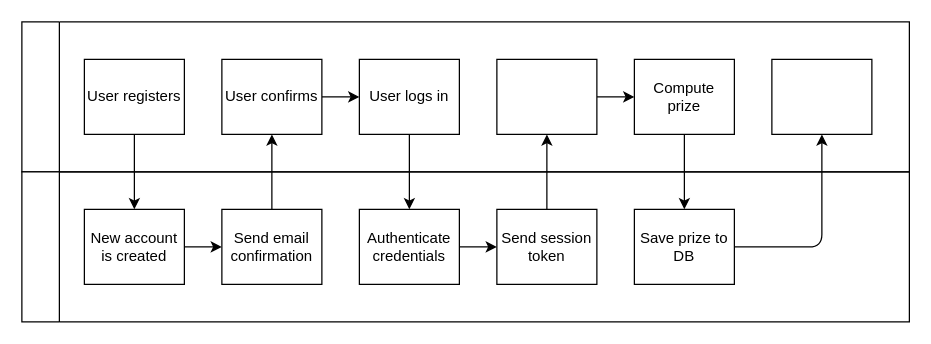
This 931x344 diagram has some shape labels left out. The box of each missing label's shape, as (x1, y1, x2, y2) in pixels:
Back end: (21, 171, 909, 322)
Front end: (21, 21, 909, 172)
Show prize history: (771, 58, 872, 134)
Spin the wheel: (496, 58, 597, 134)
